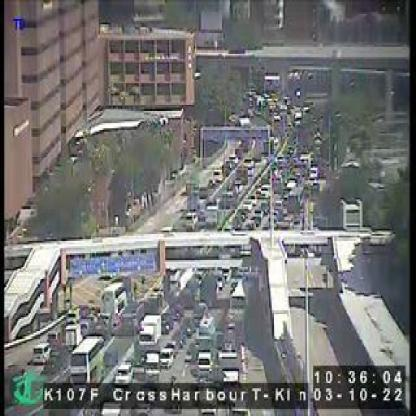Bus: (70, 334, 100, 394), (100, 279, 129, 317)
Car: (42, 352, 61, 374), (144, 350, 159, 375), (198, 314, 214, 336), (116, 361, 131, 383), (198, 343, 209, 371), (34, 342, 49, 362), (45, 329, 60, 347), (180, 315, 194, 333), (192, 302, 204, 322), (212, 270, 224, 288), (168, 297, 178, 318), (161, 349, 172, 368), (157, 314, 169, 331), (86, 308, 96, 326), (173, 328, 183, 346), (166, 338, 176, 352), (218, 265, 228, 279), (260, 184, 269, 198), (236, 206, 246, 218), (185, 210, 195, 222), (243, 200, 252, 212), (253, 208, 264, 217), (248, 190, 256, 202), (244, 220, 256, 227), (261, 201, 269, 210), (250, 213, 258, 220)
Truck: (136, 314, 160, 346), (199, 279, 214, 305), (64, 322, 78, 347), (66, 307, 86, 322), (205, 204, 216, 226)
